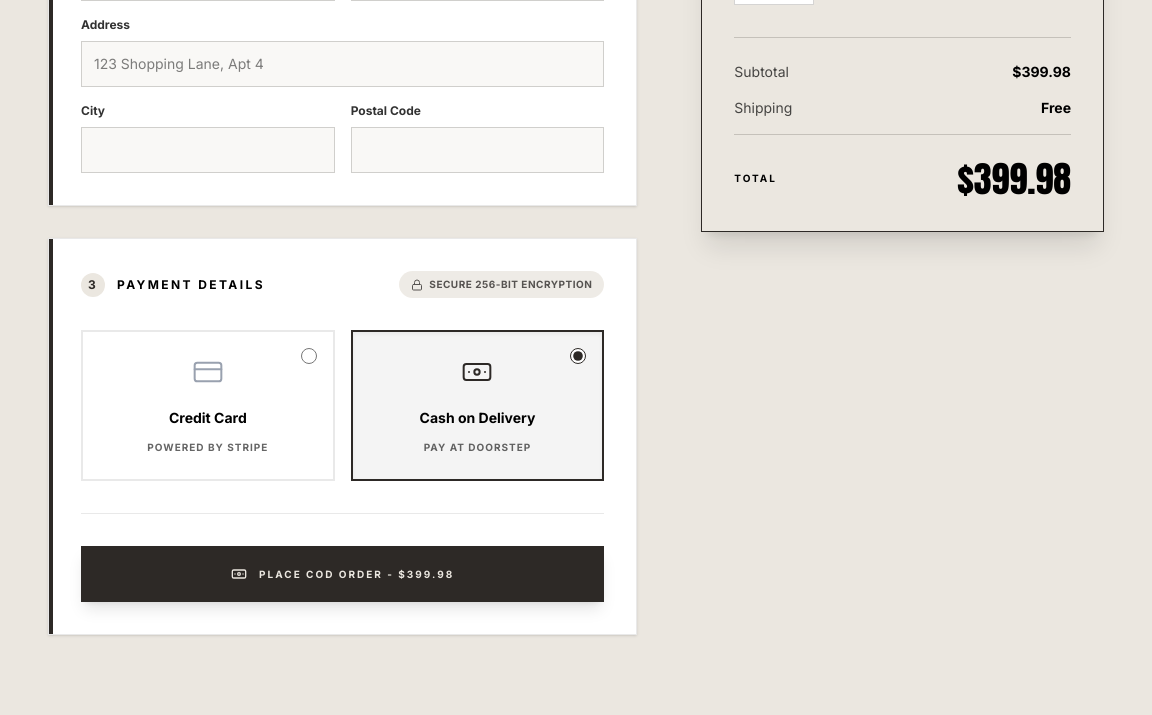
Test: Checkout › shows validation error on empty COD submit
(page scrolled)
Click the button "Place COD Order - $399.98" at {"x": 343, "y": 574}, box [81, 546, 604, 602]
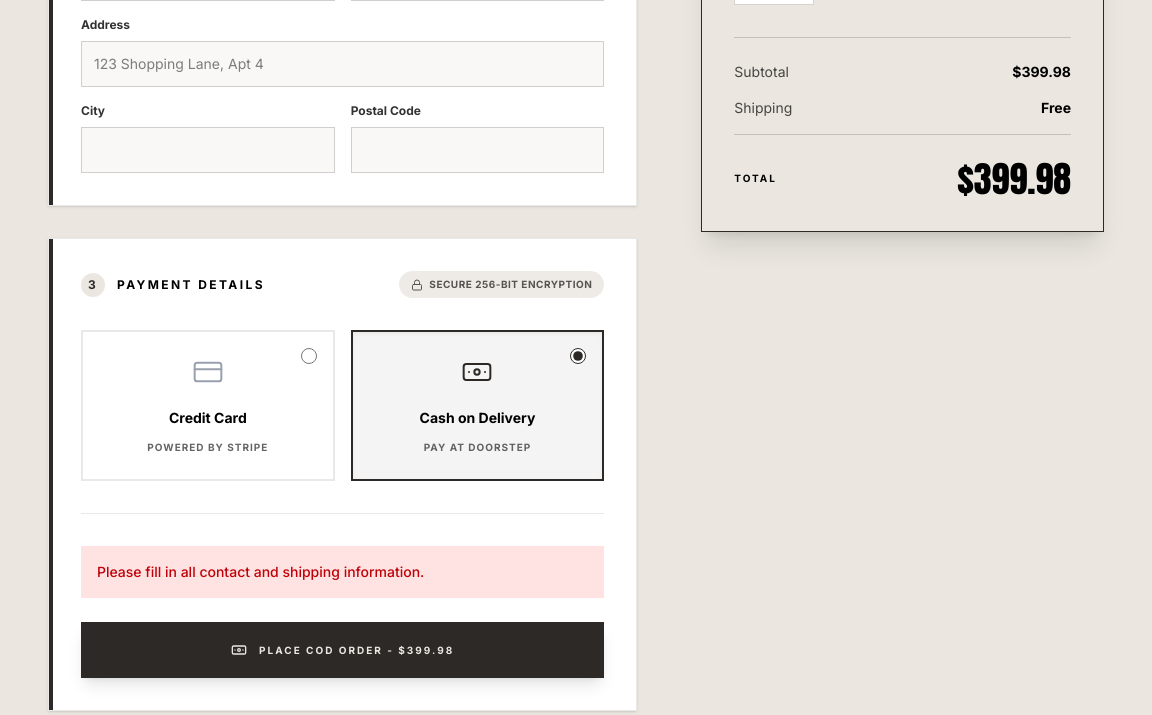
Now the text "Please fill in all contact and shipping information." is shown, box [81, 546, 604, 598]
